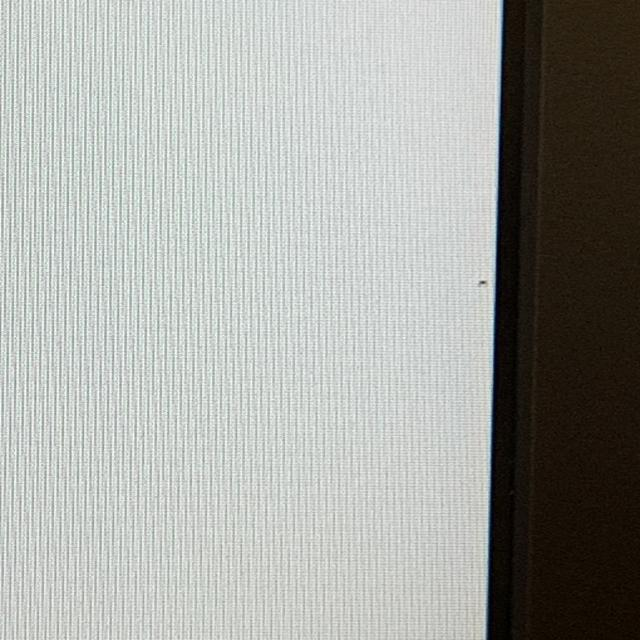Dead pixel: (479, 280, 487, 286)
